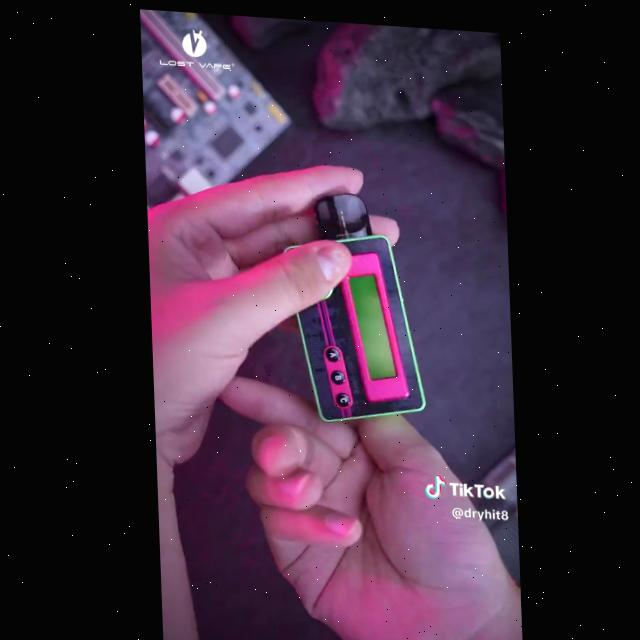vape: (278, 182, 425, 424)
